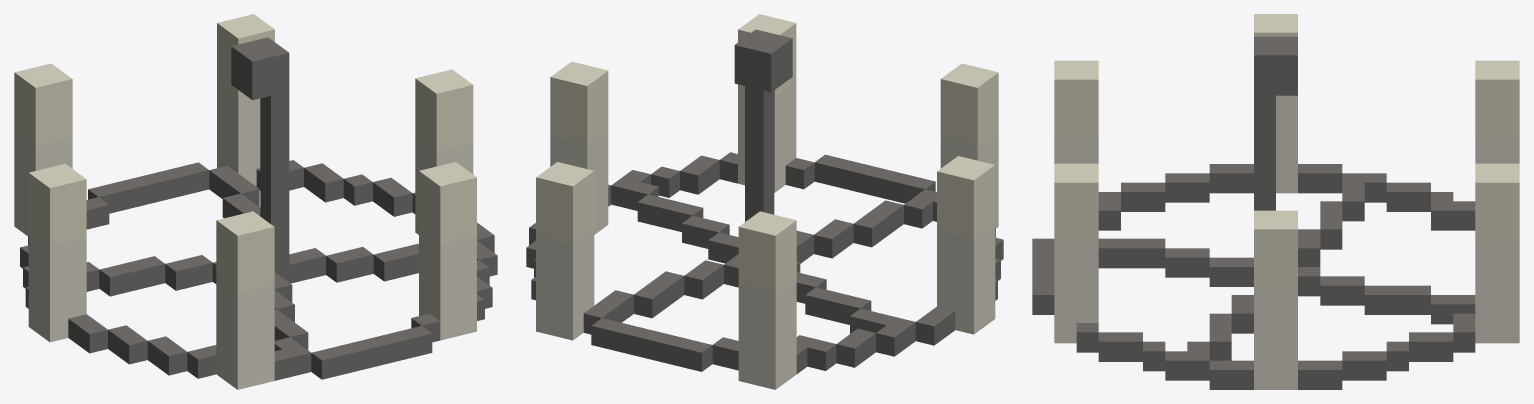
Rendered from lampara_arana_plata_01.glb.
3 views of the same model, side by side, from view 1: azimuth 30°, elevation 25°; view 2: azimuth 150°, elevation 25°; view 3: azimuth 270°, elevation 25° (orthographic). The views are drawn at different scales.
Parts seen in each view (by area): view 1: lampara_arana_plata; view 2: lampara_arana_plata; view 3: lampara_arana_plata.
Boxes of the visible parts, box(x1,y1,x2,y2) form: lampara_arana_plata: box(14, 14, 497, 389); lampara_arana_plata: box(526, 14, 1003, 389); lampara_arana_plata: box(1032, 14, 1519, 389).
Size of the model in its own units: 1.44 by 0.75 by 1.38.
